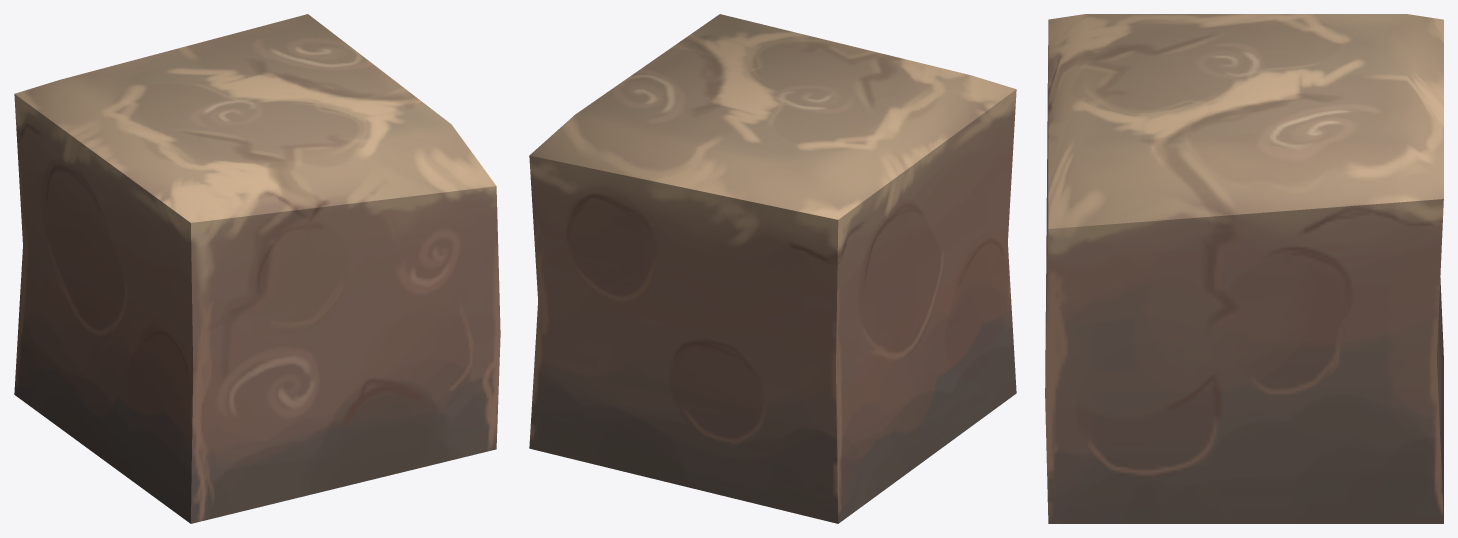
Rendered from ObstacleStone.glb.
The picture shows the model from 3 angles, left to right: view 1: azimuth 30°, elevation 25°; view 2: azimuth 150°, elevation 25°; view 3: azimuth 270°, elevation 25°; orthographic projection. The views are drawn at different scales.
Parts seen in each view (by area): view 1: Cube; view 2: Cube; view 3: Cube.
Part boxes in pixels (bbox=[...]): Cube: bbox=[14, 14, 500, 523]; Cube: bbox=[529, 14, 1016, 523]; Cube: bbox=[1045, 14, 1443, 523].
Size of the model in its own units: 0.5042 by 0.5083 by 0.5042.
1 material, 1 textured.
